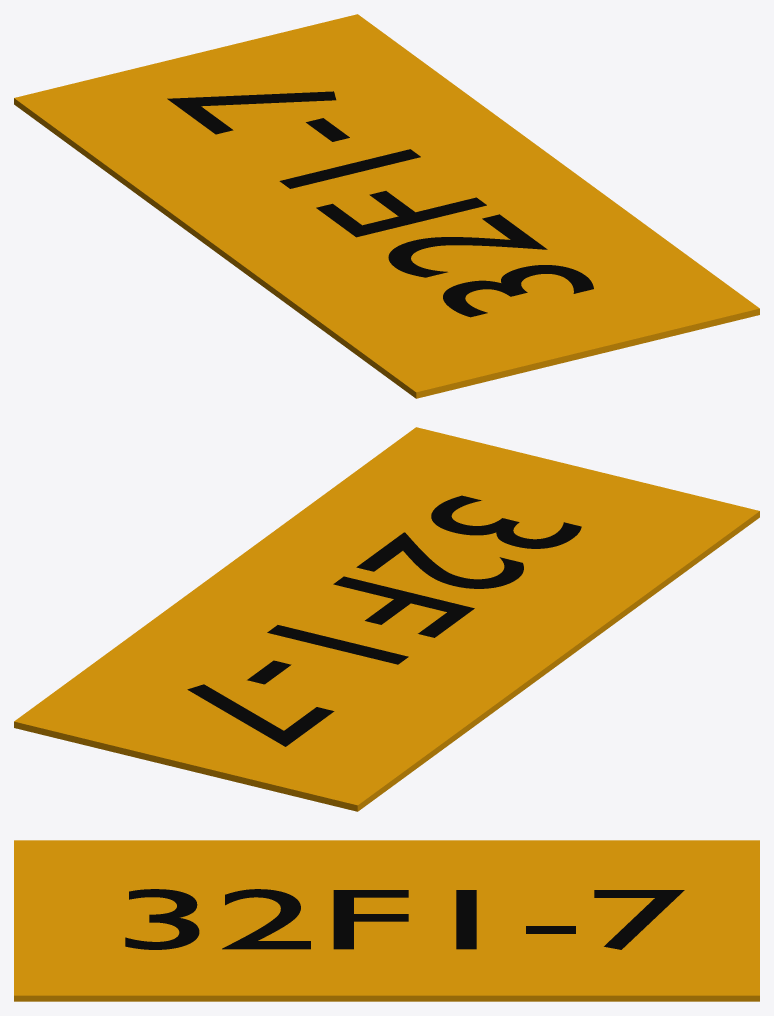
3 views of the same model, one above another, from view 1: azimuth 30°, elevation 25°; view 2: azimuth 150°, elevation 25°; view 3: azimuth 270°, elevation 25° (orthographic). The views are drawn at different scales.
Visible parts, largest first — view 1: Plane, Text.001; view 2: Plane, Text.001; view 3: Plane, Text.001.
Boxes of the visible parts, x1,y1,x2,y2 form: Plane: [14, 14, 759, 398]; Text.001: [167, 91, 593, 317]; Plane: [14, 427, 759, 811]; Text.001: [187, 495, 581, 746]; Plane: [14, 840, 759, 1001]; Text.001: [125, 889, 684, 949].
Bounding box in the file's own units: 173 × 3.74 × 350.
